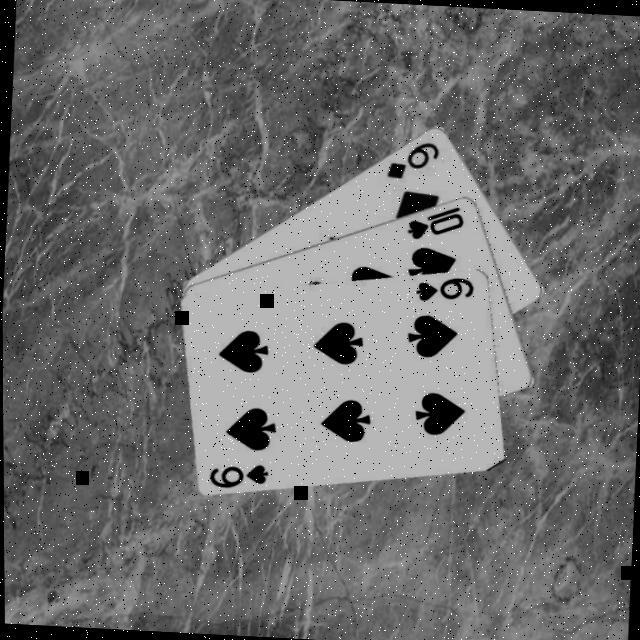10S: (403, 200, 467, 243)
6D: (382, 136, 442, 182)
6S: (411, 271, 476, 305), (206, 458, 270, 491)
